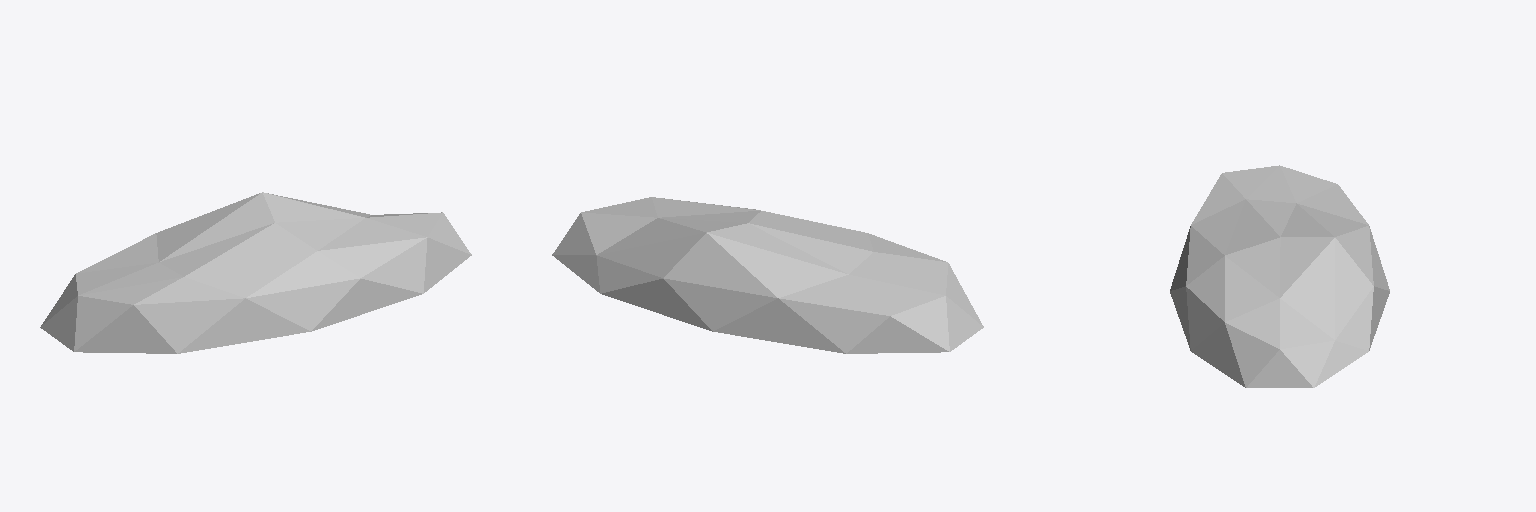
Rendered from Steine1.obj.
3 renders of one model, left to right at view 1: azimuth 30°, elevation 25°; view 2: azimuth 150°, elevation 25°; view 3: azimuth 270°, elevation 25°, orthographic.
Parts seen in each view (by area): view 1: Icosphere.002; view 2: Icosphere.002; view 3: Icosphere.002.
Part boxes in pixels (x1,y1,x2,y2): Icosphere.002: (40, 192, 471, 353); Icosphere.002: (552, 197, 983, 353); Icosphere.002: (1170, 165, 1389, 387).
Size of the model in its own units: 5.05 by 0.8558 by 2.42.